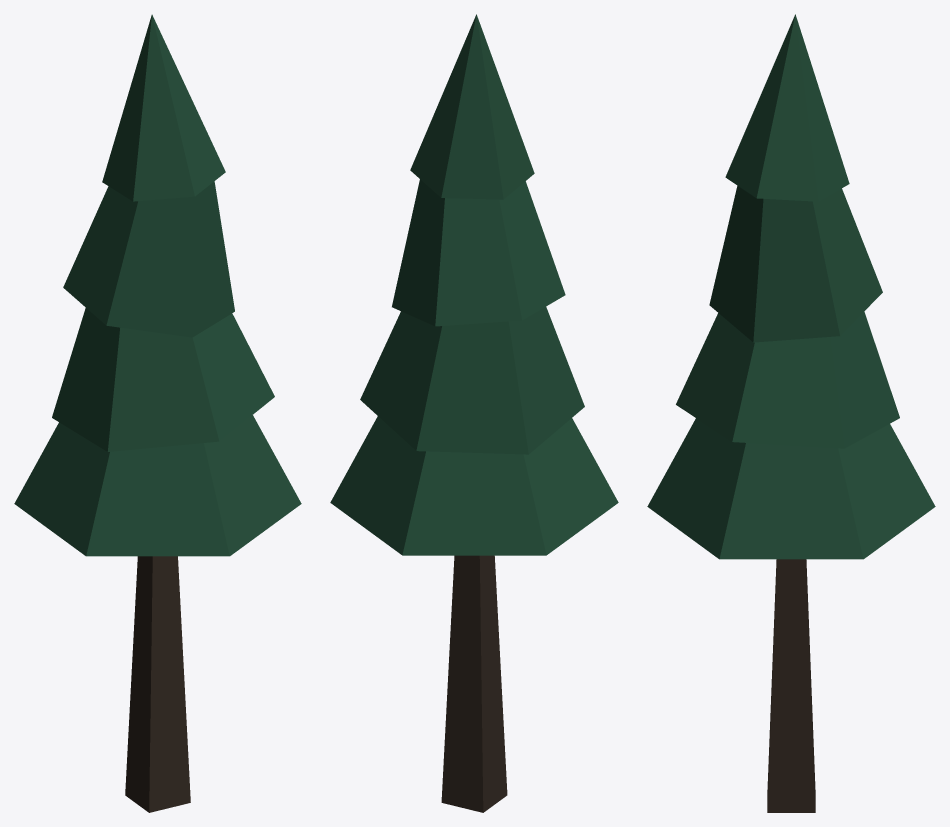
Rendered from rn_pine_giant.glb.
3 renders of one model, left to right at view 1: azimuth 30°, elevation 25°; view 2: azimuth 150°, elevation 25°; view 3: azimuth 270°, elevation 25°, orthographic.
Parts seen in each view (by area): view 1: rn_pine_giant; view 2: rn_pine_giant; view 3: rn_pine_giant.
Part boxes in pixels (x1,y1,x2,y2): rn_pine_giant: (14, 14, 301, 812); rn_pine_giant: (330, 14, 618, 812); rn_pine_giant: (647, 14, 935, 812).
Size of the model in its own units: 4.31 by 15 by 4.98.
